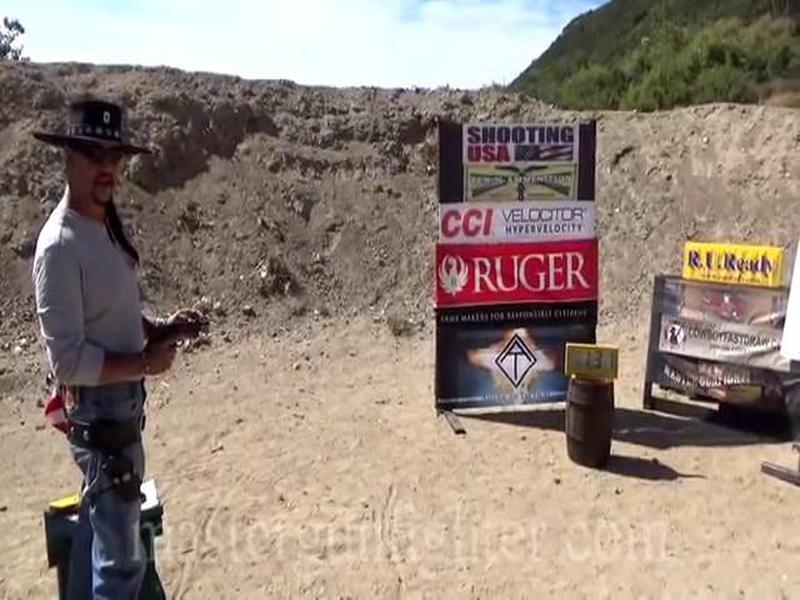Pistola: (142, 314, 214, 371)
